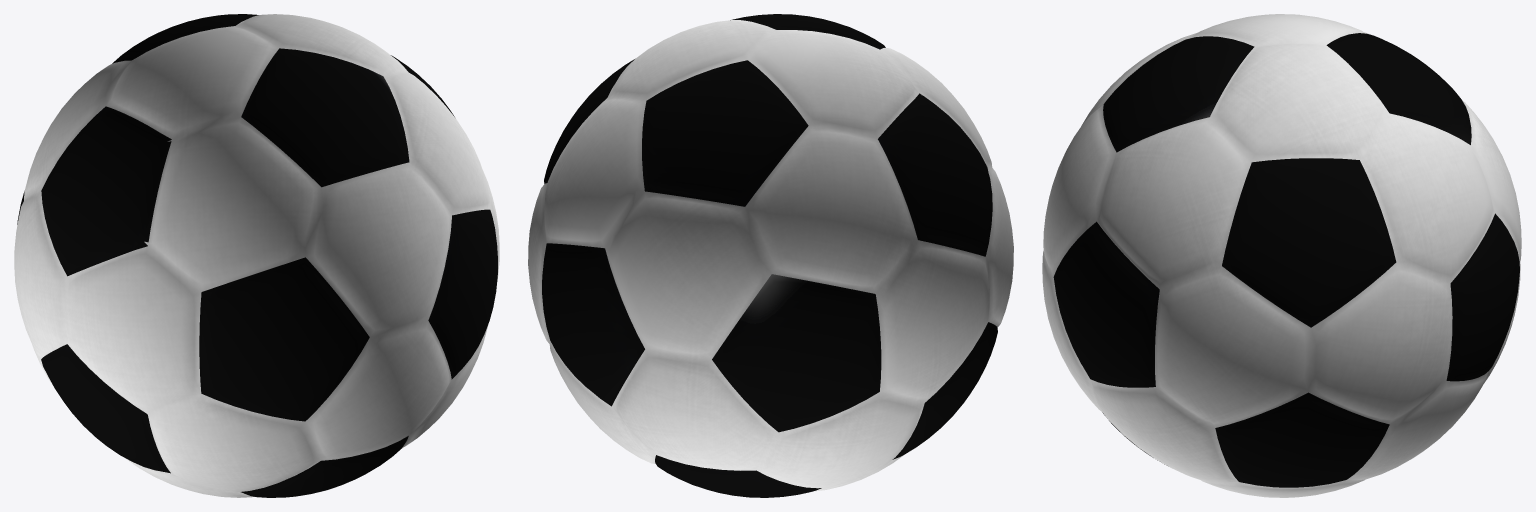
File: soccer_ball.obj
3 views of the same model, side by side, from view 1: azimuth 30°, elevation 25°; view 2: azimuth 150°, elevation 25°; view 3: azimuth 270°, elevation 25° (orthographic).
Visible parts, largest first — view 1: dynamic; view 2: dynamic; view 3: dynamic.
Boxes of the visible parts, x1,y1,x2,y2 form: dynamic: (14,14,499,497); dynamic: (528,14,1013,497); dynamic: (1042,14,1521,497).
Size of the model in its own units: 132 by 132 by 132.
Materials: 2 (2 with a texture image).
